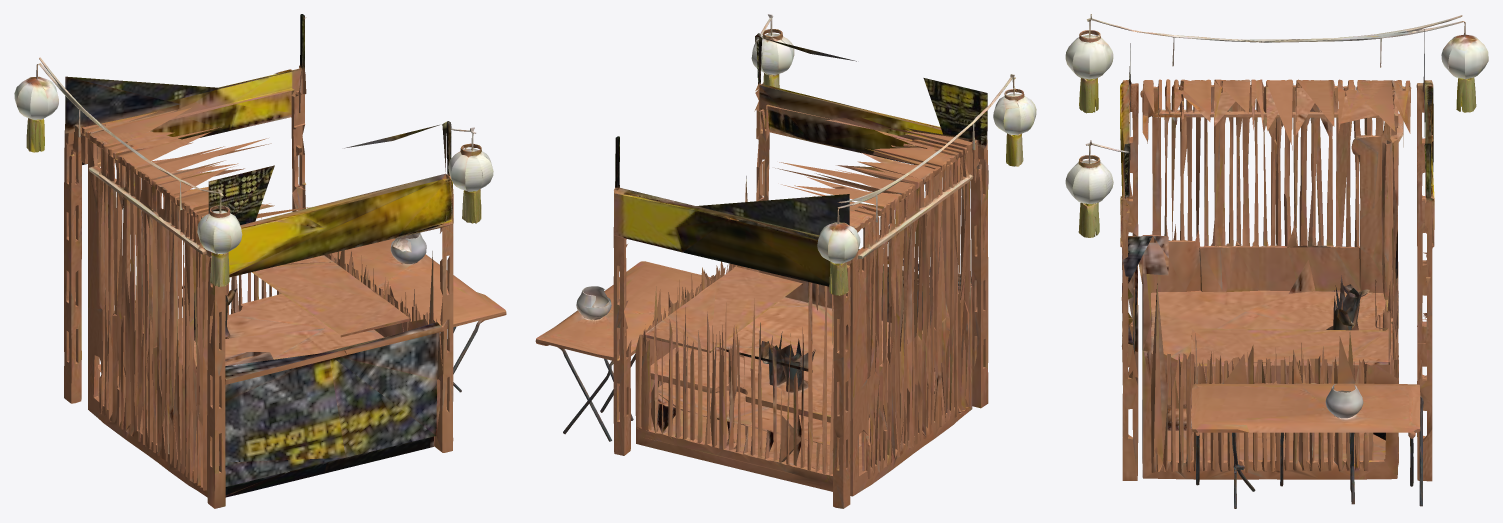
File: bar.glb
3 renders of one model, left to right at view 1: azimuth 30°, elevation 25°; view 2: azimuth 150°, elevation 25°; view 3: azimuth 270°, elevation 25°, orthographic. The views are drawn at different scales.
Parts seen in each view (by area): view 1: Mesh_0; view 2: Mesh_0; view 3: Mesh_0.
Part boxes in pixels (box(x1,y1,x2,y2)): Mesh_0: box(14, 14, 506, 508); Mesh_0: box(535, 14, 1036, 508); Mesh_0: box(1065, 14, 1488, 508).
Bounding box in the file's own units: 3.26 × 2.89 × 3.23.
Materials: 1 (1 with a texture image).
